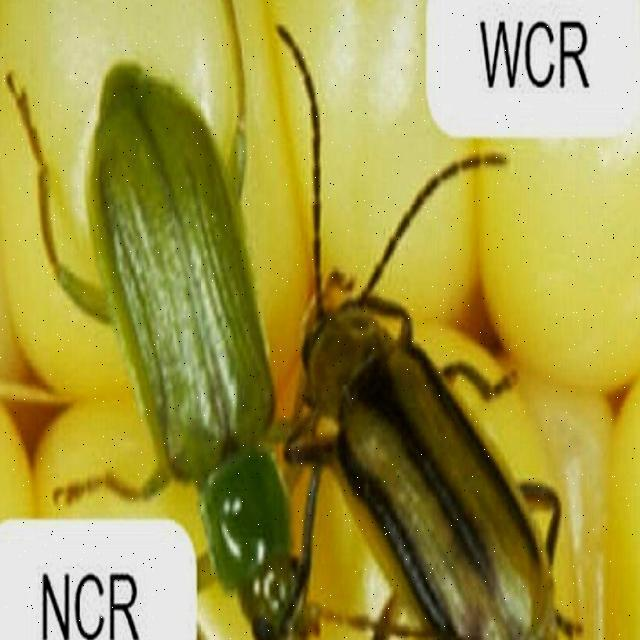gusano_gris: (45, 35, 313, 640)
trips: (262, 47, 540, 640)
